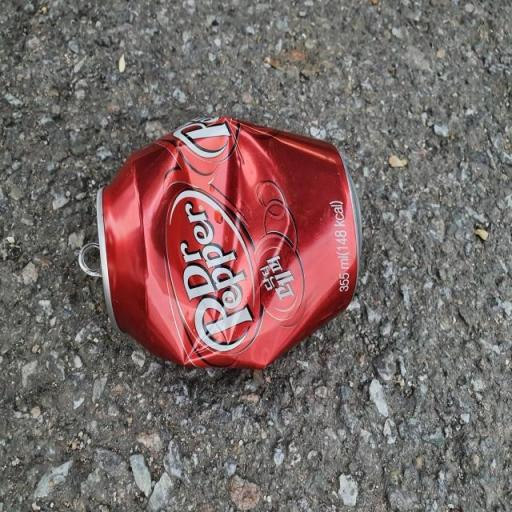metal: (72, 69, 379, 395)
